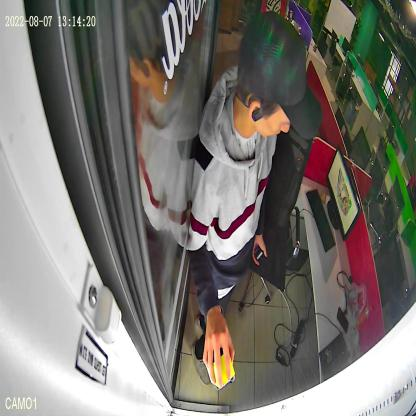yellow: (204, 328, 235, 392)
